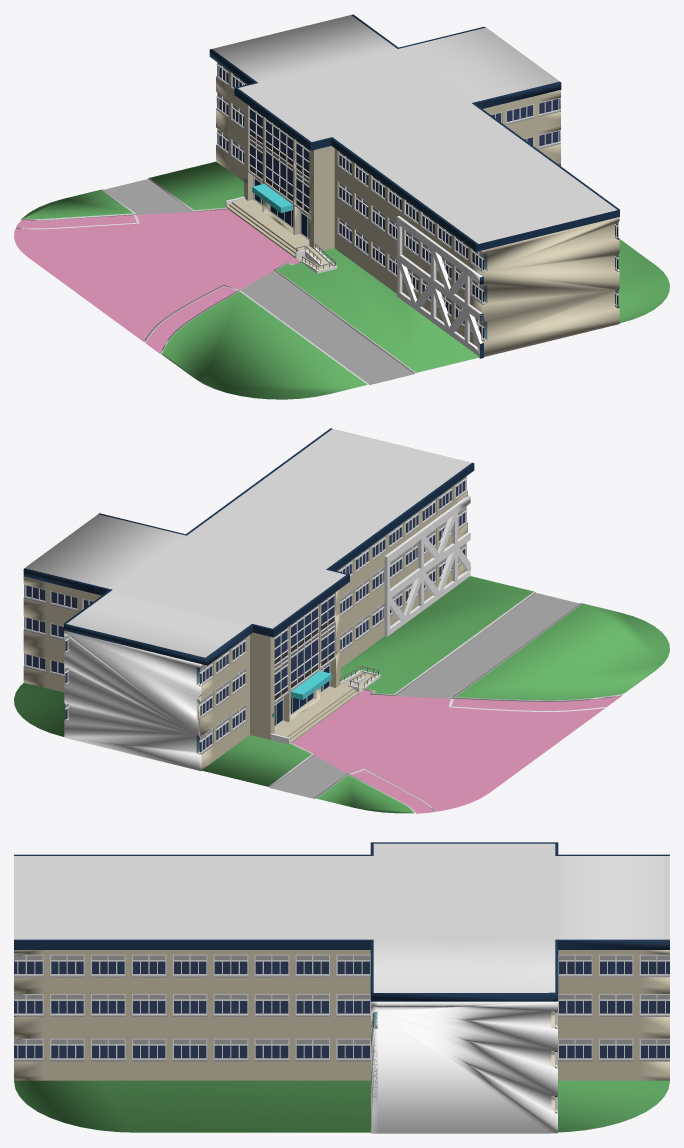
File: EnvBuldingD.fbx
The picture shows the model from 3 angles, top to bottom: view 1: azimuth 30°, elevation 25°; view 2: azimuth 150°, elevation 25°; view 3: azimuth 270°, elevation 25°; orthographic projection. The views are drawn at different scales.
Visible parts, largest first — view 1: Building_D, Ground; view 2: Building_D, Ground; view 3: Building_D, Ground.
Part boxes in pixels (<box>): Building_D: <box>209,14,619,358</box>; Ground: <box>14,161,669,399</box>; Building_D: <box>23,428,474,770</box>; Ground: <box>14,576,669,813</box>; Building_D: <box>14,842,669,1133</box>; Ground: <box>14,1080,669,1132</box>.
Size of the model in its own units: 190 by 45.26 by 190.
